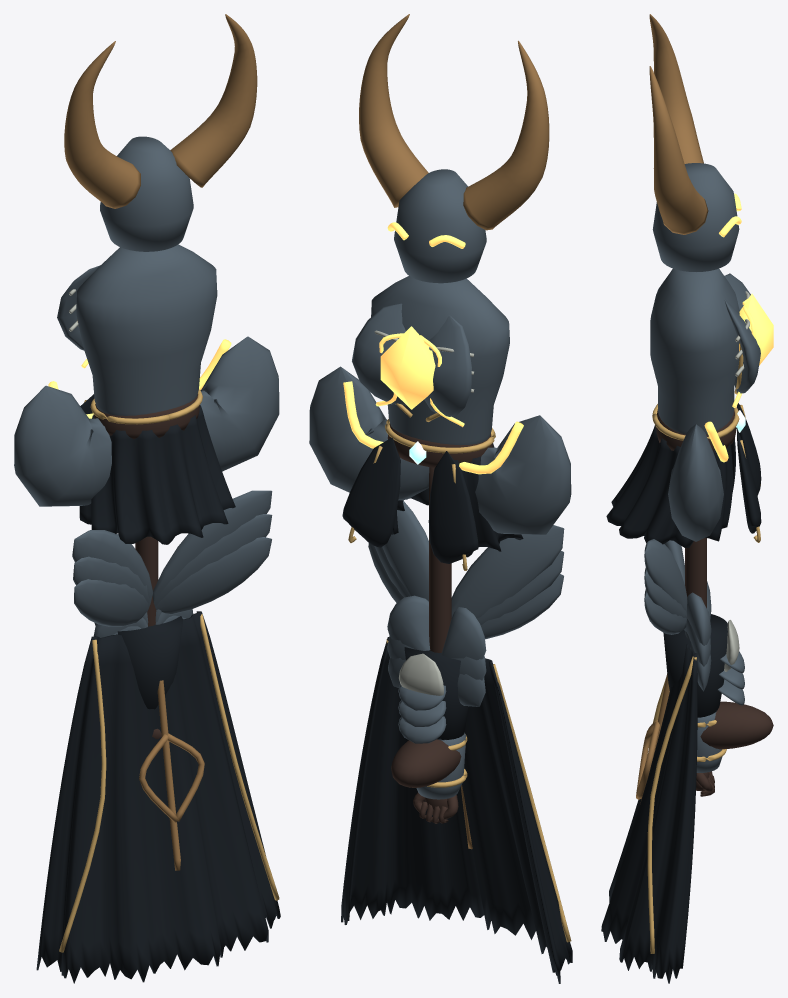
File: guardian_3.glb
The picture shows the model from 3 angles, left to right: view 1: azimuth 30°, elevation 25°; view 2: azimuth 150°, elevation 25°; view 3: azimuth 270°, elevation 25°; orthographic projection. The views are drawn at different scales.
Visible parts, largest first — view 1: Cape__dark, Body__iron, Weapon__iron, Body__dark, Body__bronze, ArmR__iron, ArmL__iron, LegL__dark, Cape__gold, Cape__bronze, Body__leather, Weapon__leather (+1 smaller); view 2: Cape__dark, Body__iron, Weapon__iron, ArmL__iron, Body__bronze, Body__dark, ArmR__iron, Body__ember, KneeL__leather, KneeL__iron, Weapon__leather, LegL__dark (+6 smaller); view 3: Body__iron, Cape__dark, Body__dark, Body__bronze, ArmR__iron, Weapon__iron, LegL__dark, KneeL__leather, Cape__gold, Body__ember, ArmL__iron, Weapon__leather (+6 smaller).
Part boxes in pixels (x1,y1,x2,y2): Cape__dark: (36,611,280,983); Body__iron: (57,136,217,415); Weapon__iron: (14,336,279,506); Body__dark: (79,394,235,544); Body__bronze: (64,14,257,208); ArmR__iron: (152,490,272,624); ArmL__iron: (72,530,152,637); LegL__dark: (117,616,182,709); Cape__gold: (59,614,279,952); Cape__bronze: (139,680,204,870); Body__leather: (93,394,199,439); Weapon__leather: (135,536,158,626); Cape__dark: (341,637,572,983); Body__iron: (352,169,509,445); Weapon__iron: (309,366,571,534); ArmL__iron: (416,525,564,799); Body__bronze: (359,14,549,230); Body__dark: (342,437,523,563); ArmR__iron: (368,500,430,688); Body__ember: (375,222,465,427); KneeL__leather: (391,739,465,787); KneeL__iron: (398,684,446,743); Weapon__leather: (429,467,451,652); LegL__dark: (404,647,468,739); Body__iron: (650,163,760,434); Cape__dark: (601,644,697,983); Body__dark: (606,403,761,547); Body__bronze: (649,14,708,234); ArmR__iron: (644,539,711,691); Weapon__iron: (668,424,723,541); LegL__dark: (663,614,727,717); KneeL__leather: (700,701,773,749); Cape__gold: (647,656,696,953); Body__ember: (719,193,773,407); ArmL__iron: (664,540,722,772); Weapon__leather: (685,538,706,608).
Size of the model in its own units: 1.15 by 3.86 by 0.6772.
